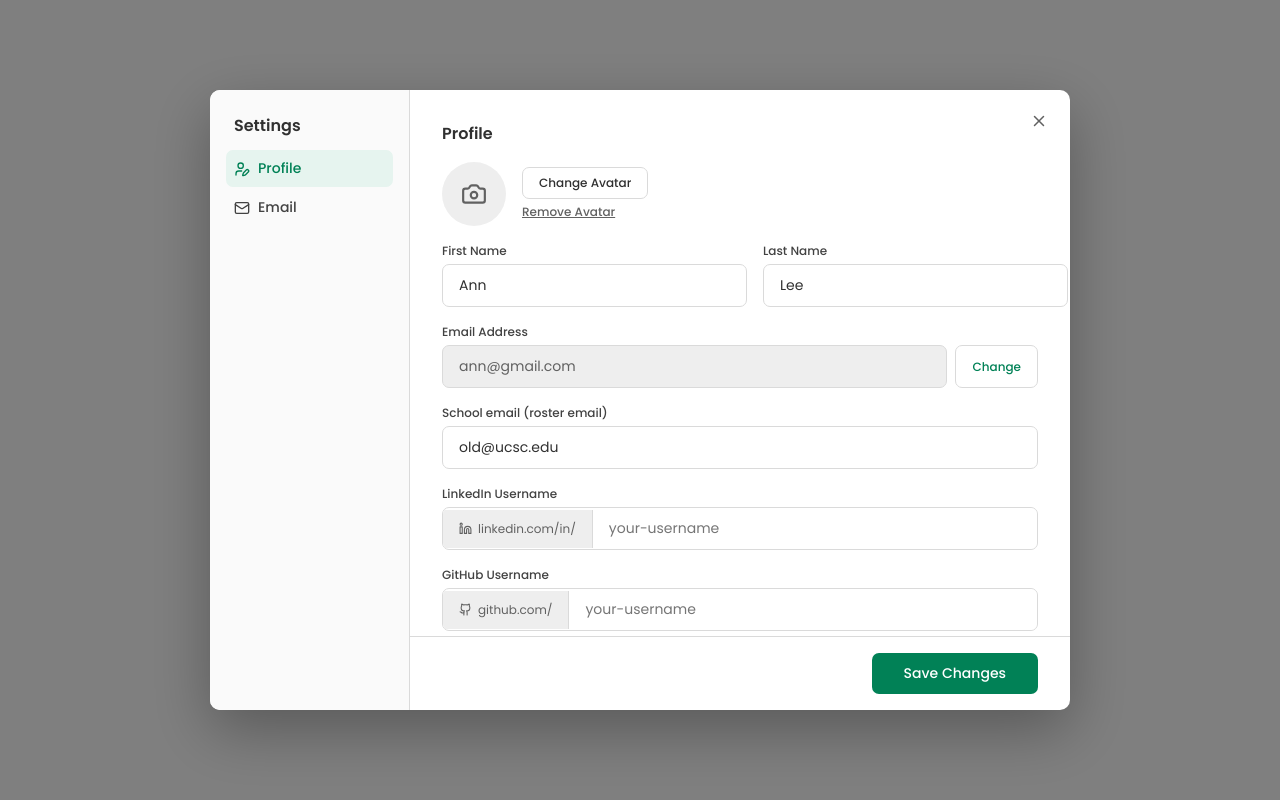
Test case: Settings — school email › saves everything else, then asks for a code before the new address counts
This screenshot has width=1280, height=800.
Step 1. Replace the text in the field labelled "School email (roster email)" with "ann@ucsc.edu" → (740, 448), box [442, 426, 1038, 469]
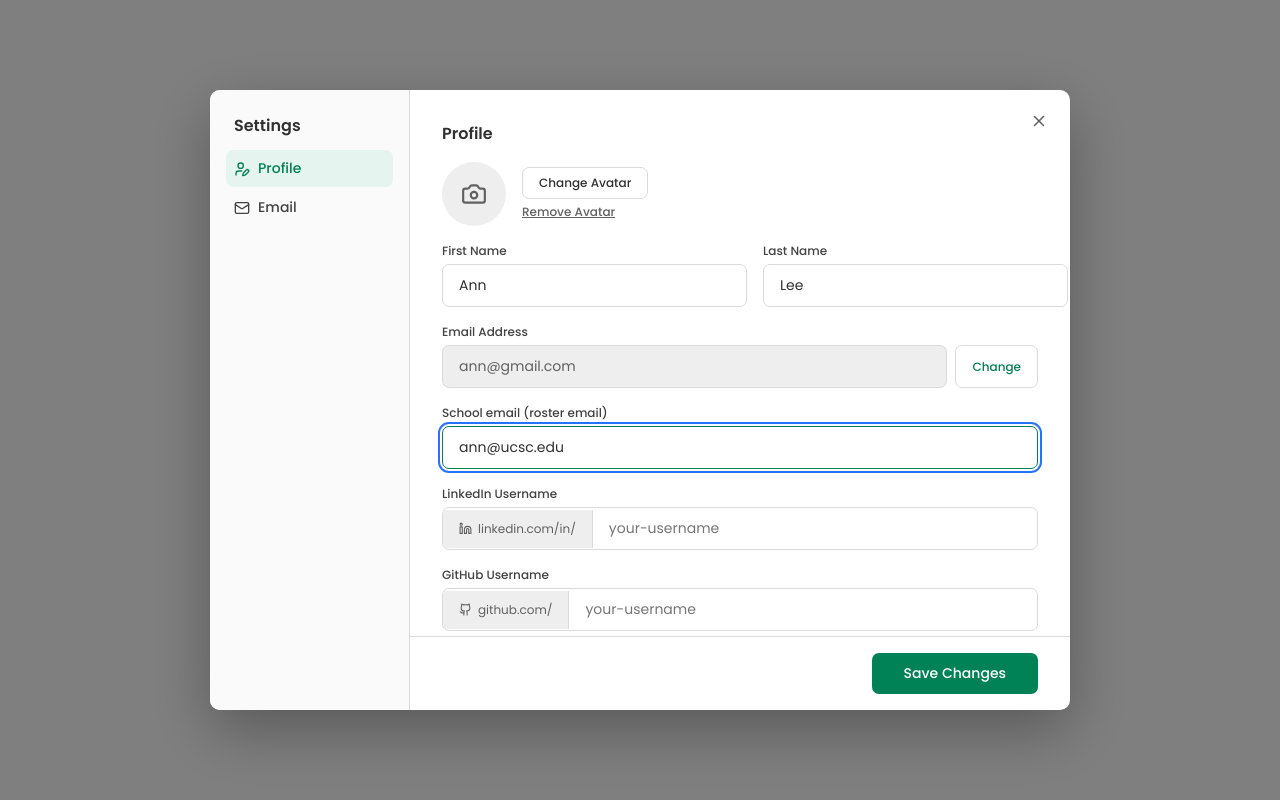
Step 2. Click the button "Save Changes" → click(955, 674), box [872, 653, 1038, 694]
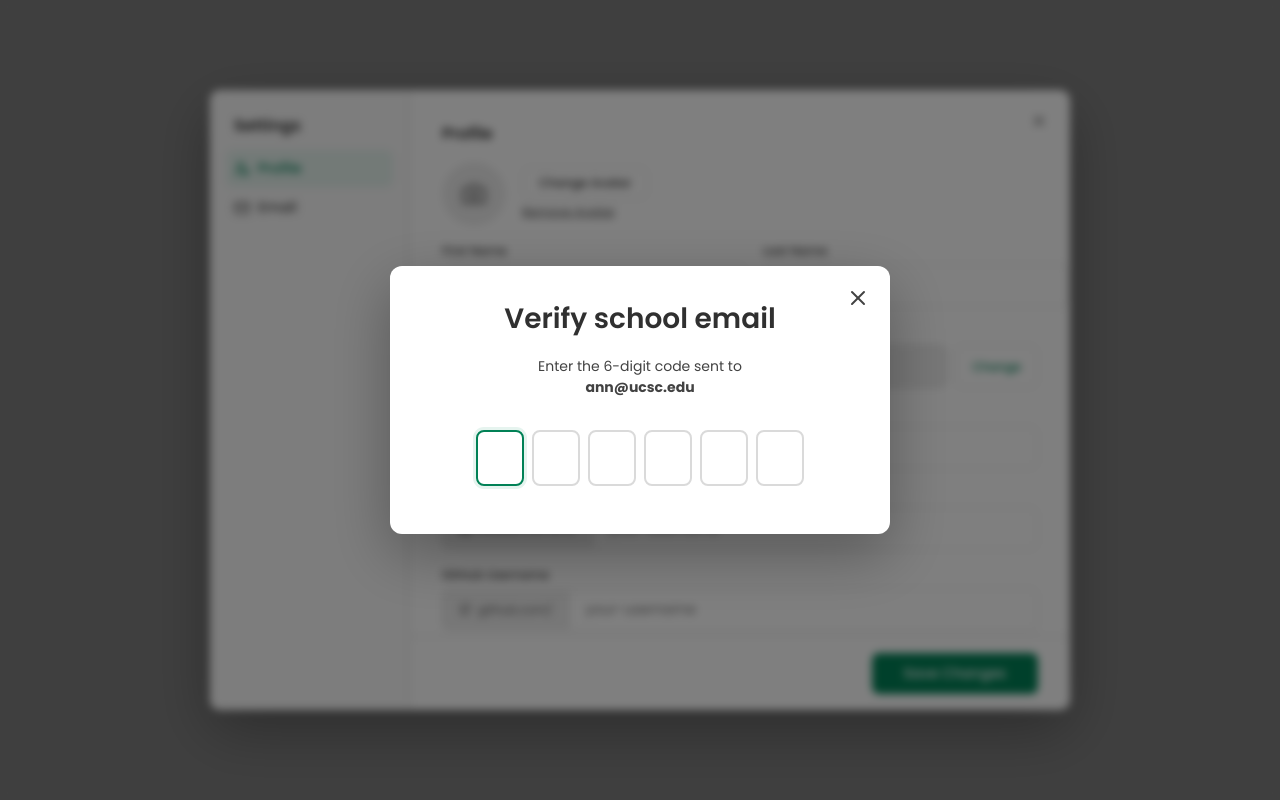
expect the text "Enter the 6-digit code" is shown: met, box [538, 356, 742, 376]
